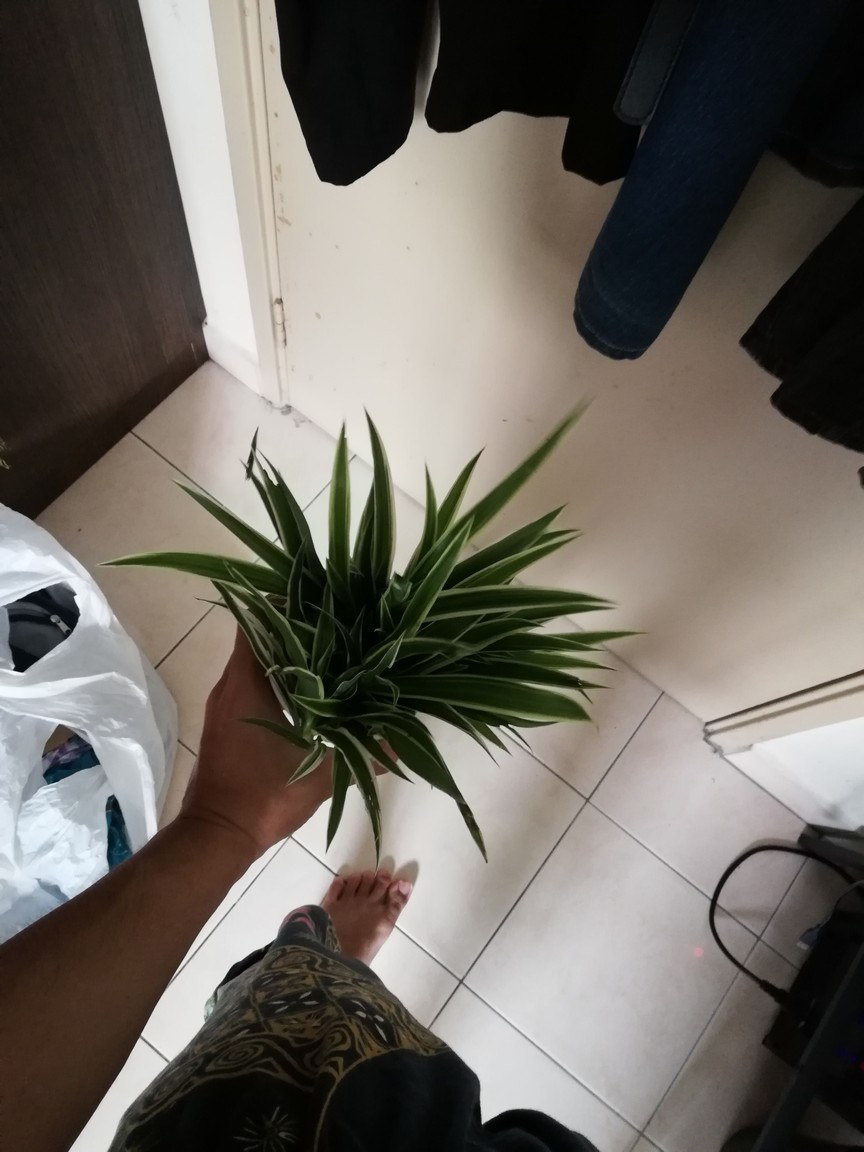daun: (494, 389, 601, 502), (167, 473, 245, 552), (354, 777, 389, 888), (451, 787, 495, 866), (95, 548, 215, 575), (327, 415, 350, 553), (360, 399, 398, 480), (431, 515, 478, 580), (220, 553, 274, 606), (442, 443, 489, 495), (220, 712, 293, 745), (326, 759, 349, 855), (563, 675, 634, 704), (516, 534, 583, 563), (370, 746, 417, 785), (287, 526, 313, 594), (529, 498, 573, 530), (568, 654, 625, 676), (286, 749, 317, 788), (488, 617, 545, 638), (212, 578, 253, 607), (420, 458, 440, 517), (381, 627, 408, 670), (556, 635, 609, 656), (577, 630, 652, 642), (240, 460, 263, 499), (190, 594, 231, 614), (481, 728, 510, 756), (384, 681, 409, 712), (479, 738, 499, 773), (512, 730, 537, 756), (319, 634, 338, 667), (378, 592, 392, 625)
